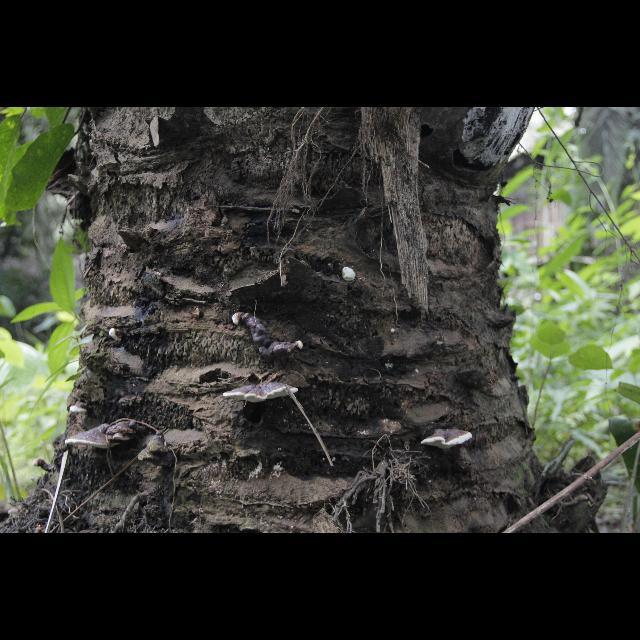ganoderma: (244, 313, 295, 363), (223, 382, 299, 404), (66, 424, 122, 450), (422, 430, 475, 451), (107, 421, 151, 442), (71, 404, 94, 415)
primordium: (343, 268, 357, 282), (110, 330, 125, 343), (233, 314, 243, 327), (34, 460, 45, 471), (296, 342, 305, 352), (392, 330, 396, 335)
